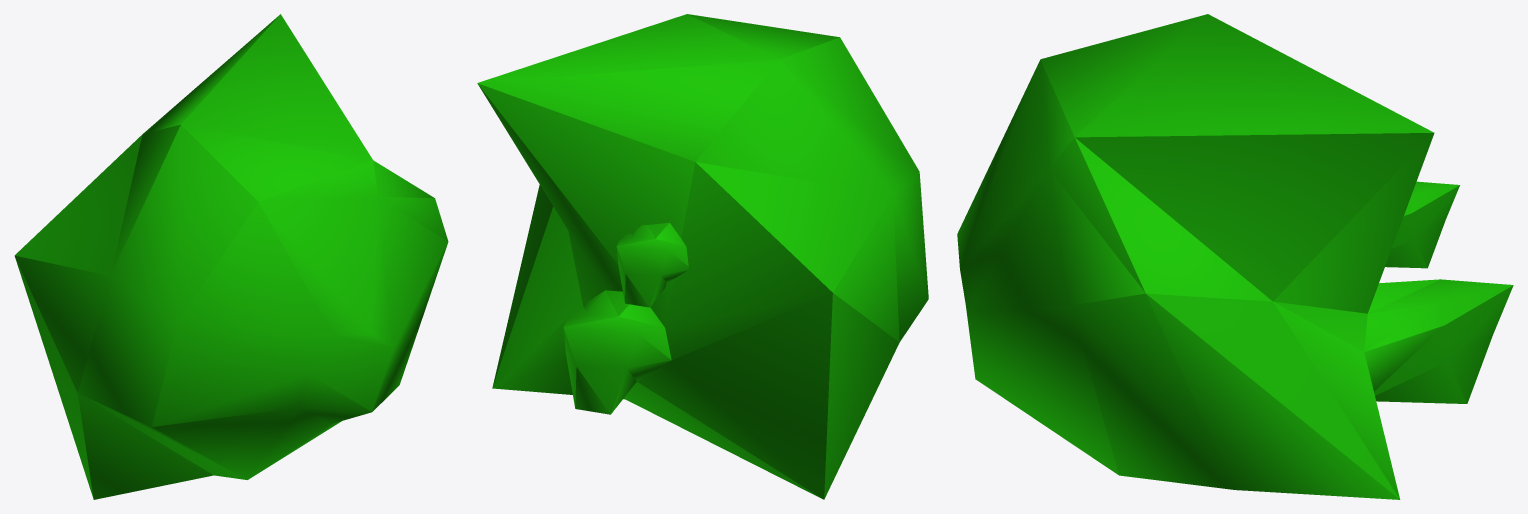
The model's file is goreLeftLeg2.fbx.
3 renders of one model, left to right at view 1: azimuth 30°, elevation 25°; view 2: azimuth 150°, elevation 25°; view 3: azimuth 270°, elevation 25°, orthographic. The views are drawn at different scales.
Visible parts, largest first — view 1: goreLeftLeg2; view 2: goreLeftLeg2; view 3: goreLeftLeg2.
Part boxes in pixels (x1,y1,x2,y2): goreLeftLeg2: [14, 14, 448, 499]; goreLeftLeg2: [477, 14, 928, 499]; goreLeftLeg2: [957, 14, 1513, 499].
Bounding box in the file's own units: 14.91 × 15.9 × 17.01.
Materials: 1 (1 with a texture image).
